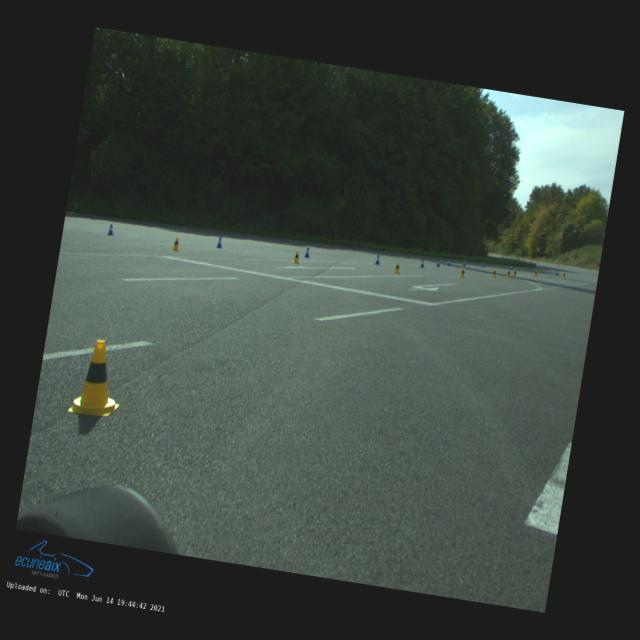blue_cone: (106, 223, 115, 236), (374, 254, 382, 266), (304, 248, 312, 258), (216, 238, 223, 248), (420, 258, 426, 268), (436, 260, 441, 268), (462, 261, 467, 267), (556, 270, 560, 276), (481, 262, 485, 268), (447, 260, 451, 266), (510, 264, 512, 270)
yellow_cone: (68, 336, 128, 419), (172, 236, 182, 252), (292, 250, 302, 264), (459, 267, 467, 279), (394, 262, 402, 274), (492, 268, 498, 278), (506, 269, 512, 278), (512, 269, 518, 277), (534, 270, 538, 277), (562, 272, 566, 278)
